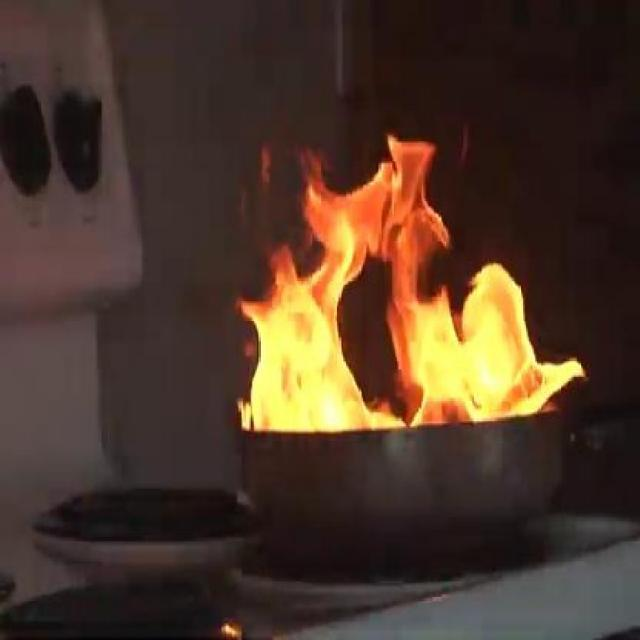fire: (230, 123, 586, 414)
